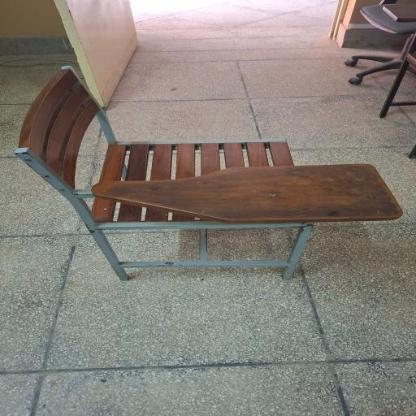chair: (8, 55, 412, 288)
